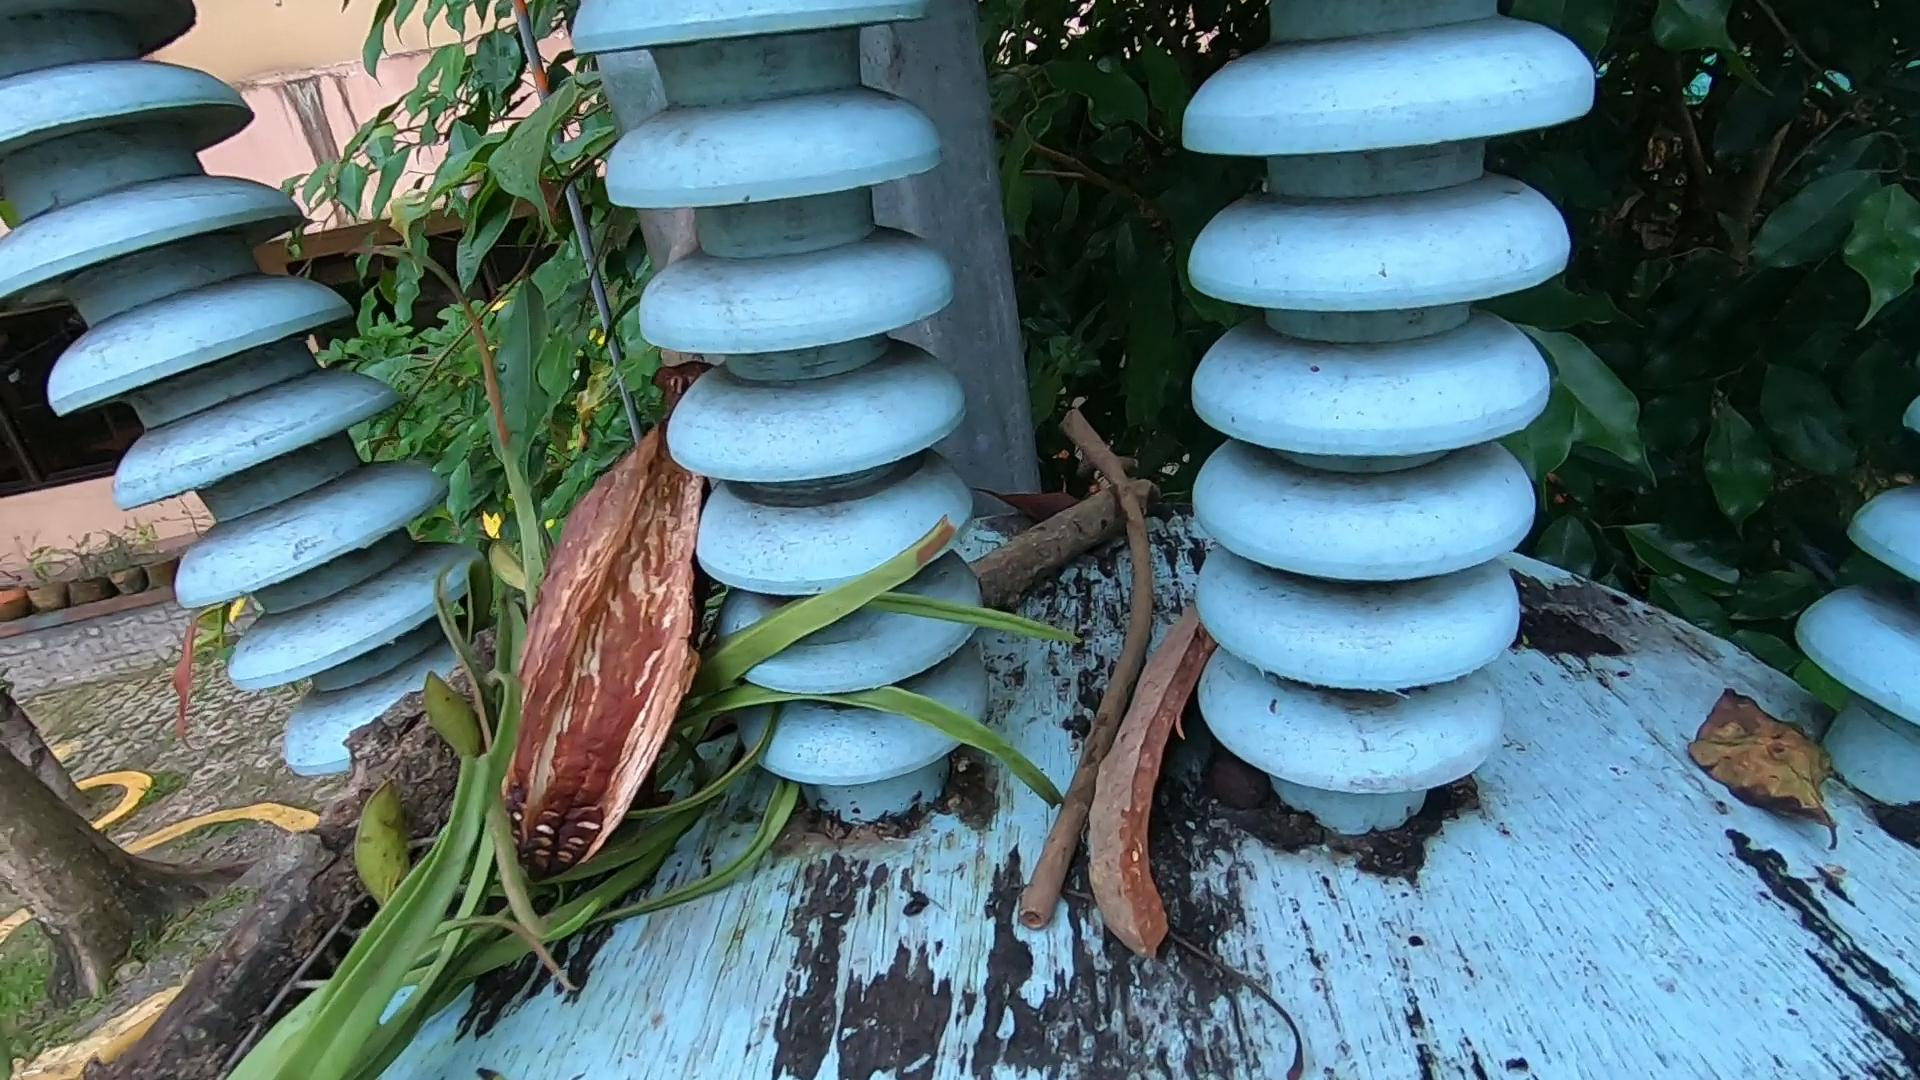branch with leaves: (78, 240, 1059, 1080)
leaf: (1691, 682, 1853, 847)
mahogany fruit: (462, 382, 779, 803), (1081, 492, 1229, 934)
tree branch: (1021, 396, 1154, 928), (975, 463, 1158, 589)
